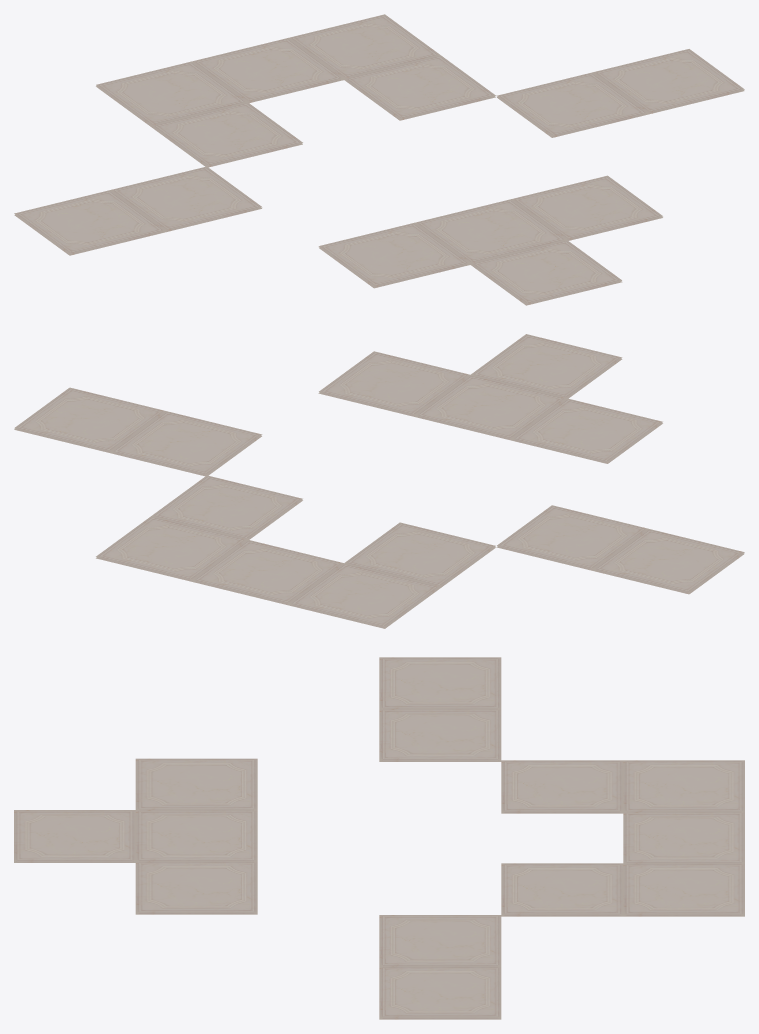
The model's file is Homeworld_Interior_Fd_Room_C_Ceiling_01_Vo.fbx.
3 renders of one model, top to bottom at view 1: azimuth 30°, elevation 25°; view 2: azimuth 150°, elevation 25°; view 3: azimuth 270°, elevation 25°, orthographic. The views are drawn at different scales.
Visible parts, largest first — view 1: Homeworld_Interior_Fd_Room_Ceiling_01_Vo (×13); view 2: Homeworld_Interior_Fd_Room_Ceiling_01_Vo (×13); view 3: Homeworld_Interior_Fd_Room_Ceiling_01_Vo (×13).
Part boxes in pixels (left/top/right/bottom): Homeworld_Interior_Fd_Room_Ceiling_01_Vo (×13): left=14, top=14, right=744, bottom=305; Homeworld_Interior_Fd_Room_Ceiling_01_Vo (×13): left=14, top=334, right=744, bottom=628; Homeworld_Interior_Fd_Room_Ceiling_01_Vo (×13): left=14, top=657, right=744, bottom=1019.
Bounding box in the file's own units: 35 × 0.162 × 30.
